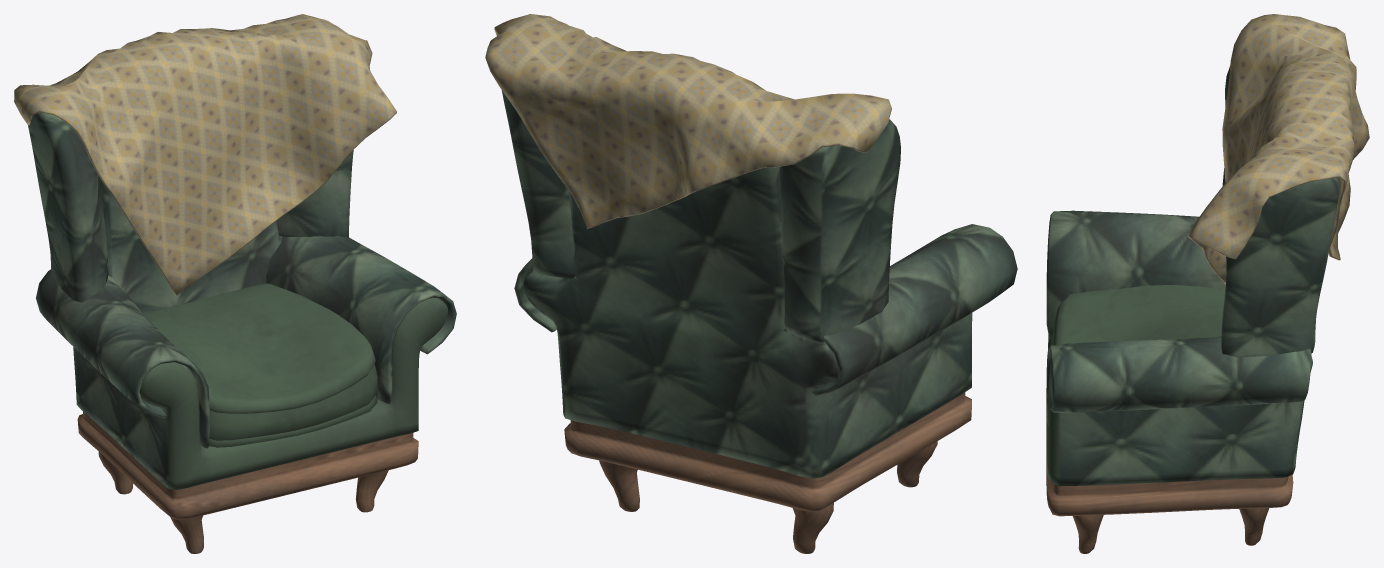
Rendered from sofa_small.fbx.
The picture shows the model from 3 angles, left to right: view 1: azimuth 30°, elevation 25°; view 2: azimuth 150°, elevation 25°; view 3: azimuth 270°, elevation 25°; orthographic projection. The views are drawn at different scales.
Visible parts, largest first — view 1: sofa_small, sofa_small_fabric, sofa_small_pillow; view 2: sofa_small, sofa_small_fabric; view 3: sofa_small, sofa_small_fabric, sofa_small_pillow.
Part boxes in pixels (x1,y1,x2,y2): sofa_small: (28, 112, 456, 553); sofa_small_fabric: (14, 14, 396, 295); sofa_small_pillow: (143, 283, 377, 447); sofa_small: (501, 90, 1017, 553); sofa_small_fabric: (485, 14, 891, 228); sofa_small: (1046, 66, 1339, 553); sofa_small_fabric: (1187, 14, 1369, 284); sofa_small_pillow: (1051, 284, 1224, 344).
Bounding box in the file's own units: 102 × 120 × 81.73.
